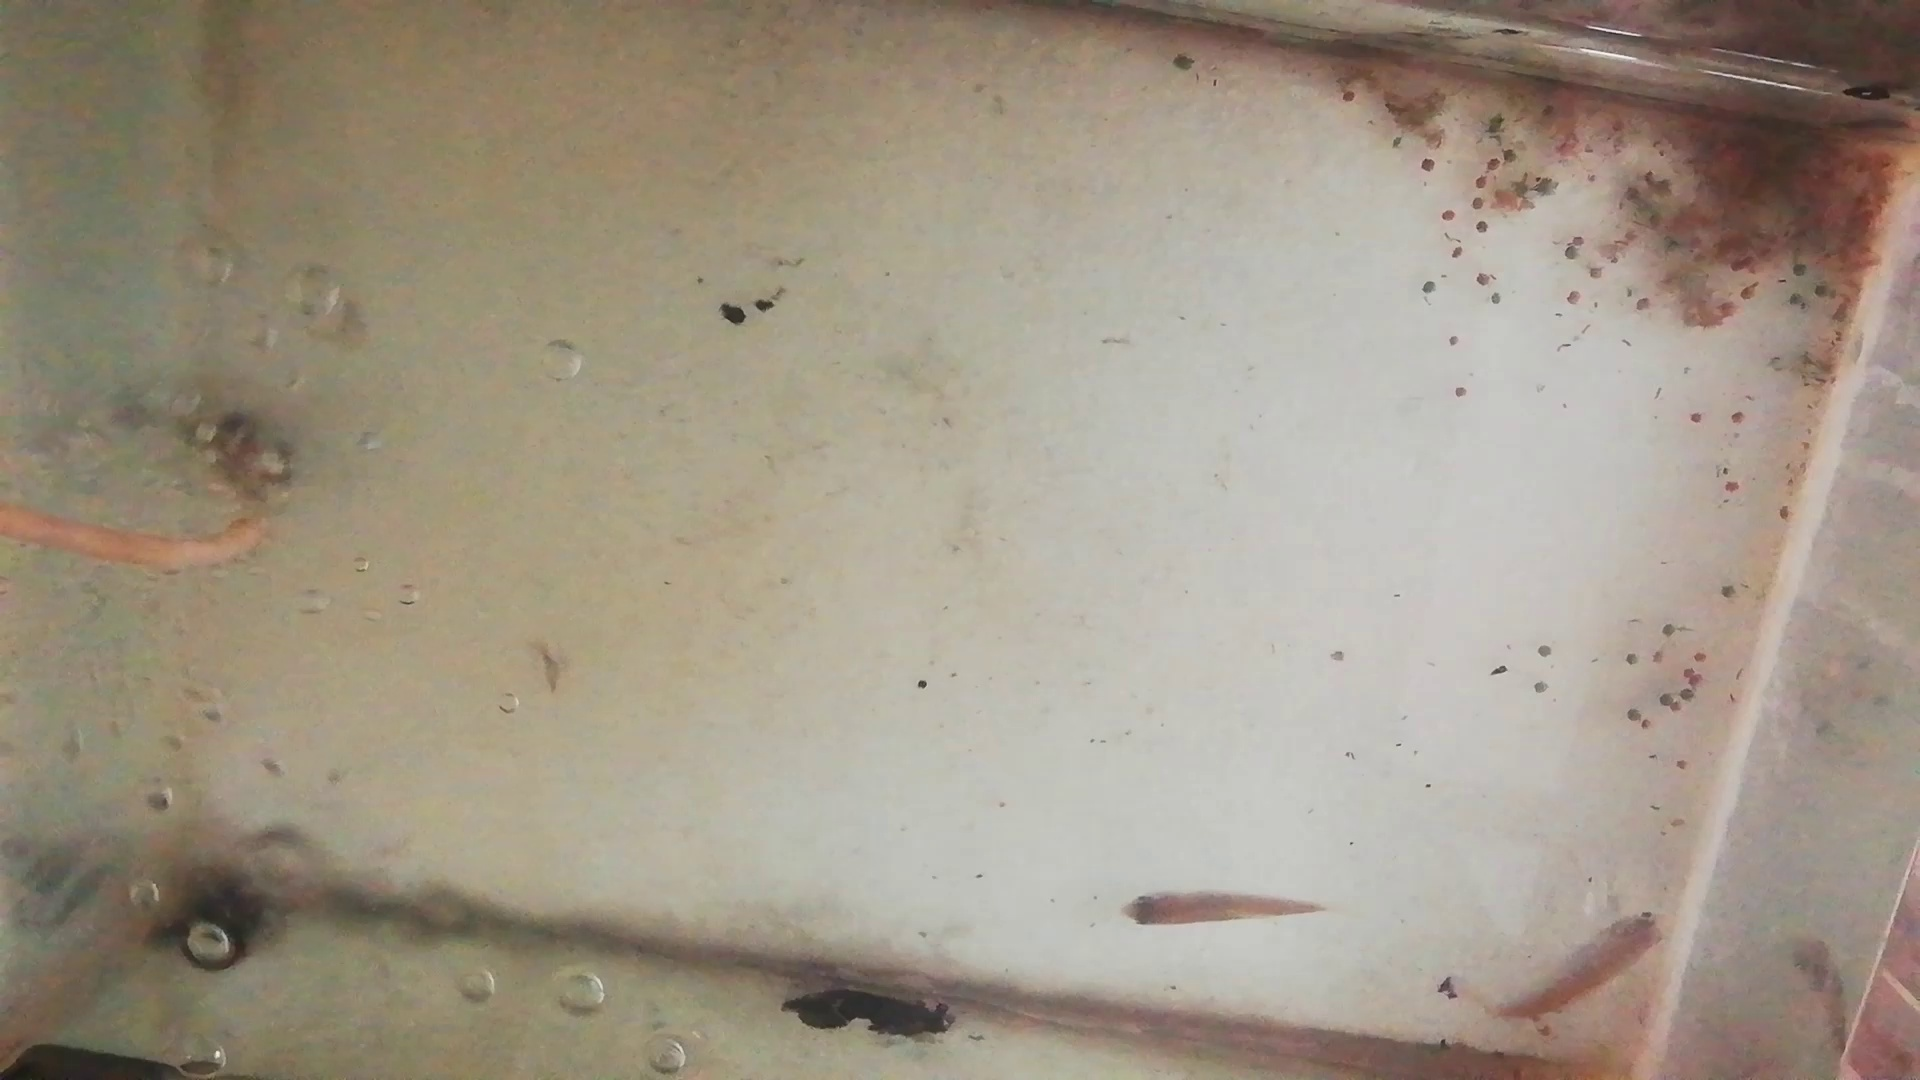fish: (1487, 913, 1664, 1022), (1116, 887, 1328, 930)
